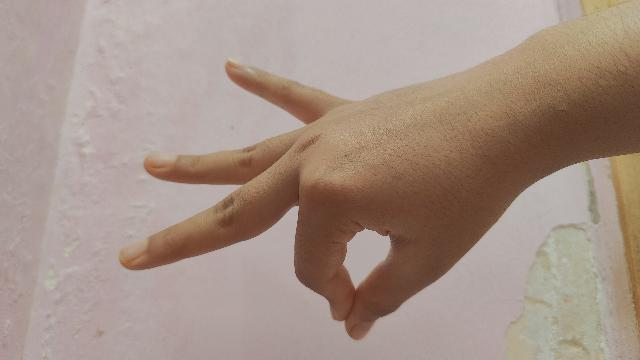hansaasya: (118, 0, 640, 342)
